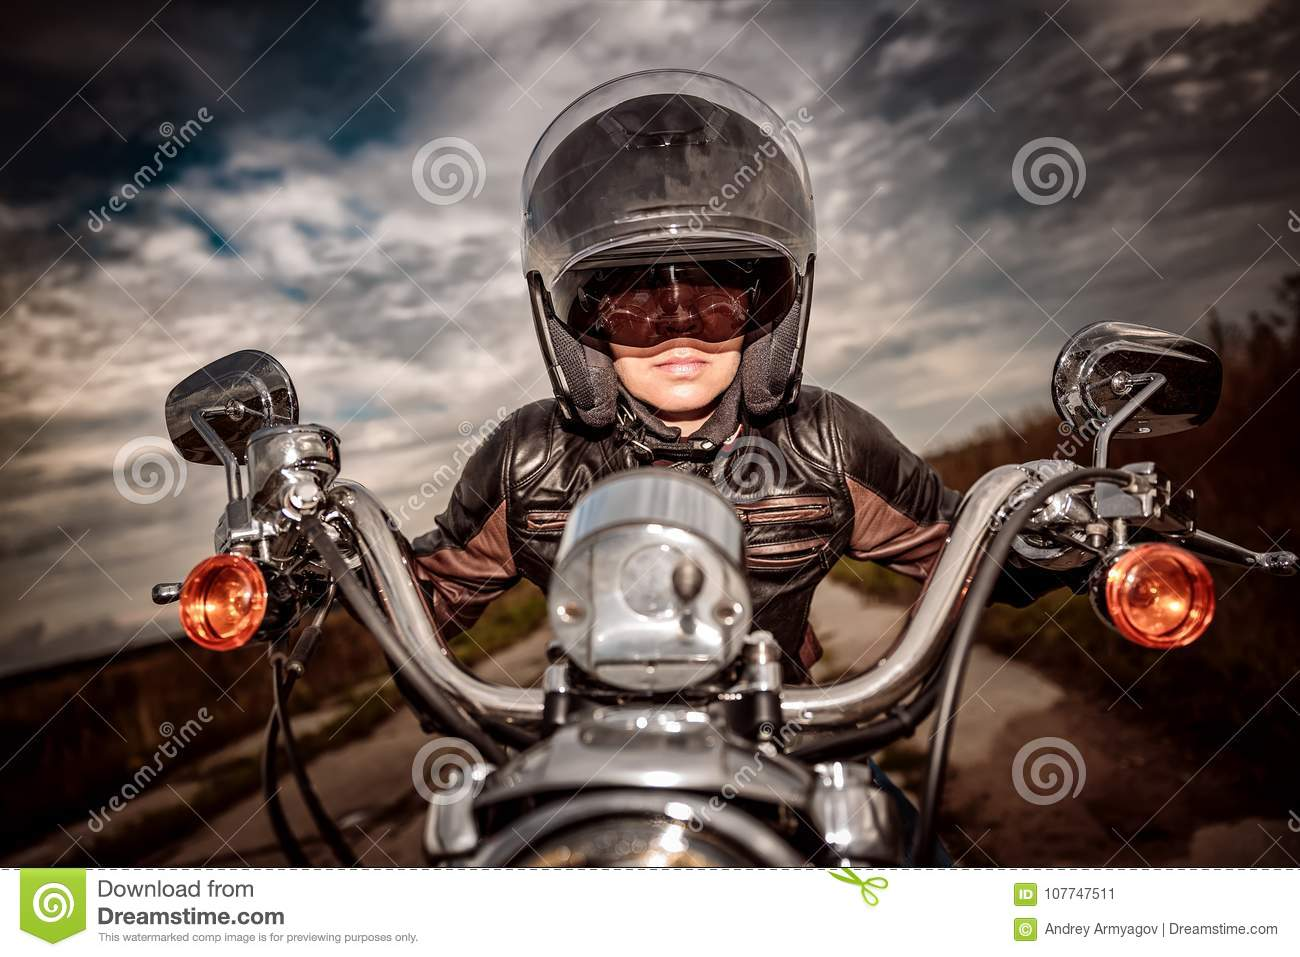helmet: (510, 116, 815, 399)
